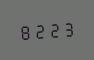eight: (18, 22, 31, 41)
three: (60, 19, 73, 38)
two: (32, 21, 45, 40), (46, 20, 59, 39)
